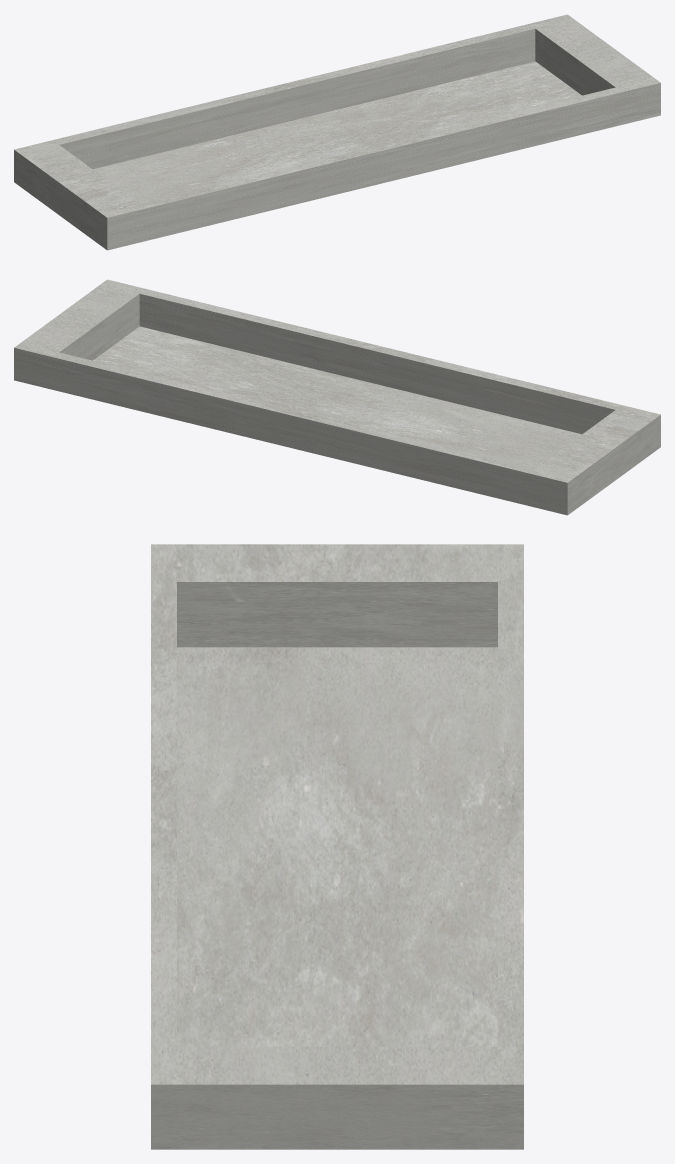
File: main_box.glb
The picture shows the model from 3 angles, top to bottom: view 1: azimuth 30°, elevation 25°; view 2: azimuth 150°, elevation 25°; view 3: azimuth 270°, elevation 25°; orthographic projection. The views are drawn at different scales.
Parts seen in each view (by area): view 1: Plane.002; view 2: Plane.002; view 3: Plane.002.
Boxes of the visible parts, bbox=[...] form: Plane.002: bbox=[14, 14, 660, 250]; Plane.002: bbox=[14, 279, 660, 515]; Plane.002: bbox=[151, 544, 523, 1149].
Size of the model in its own units: 50.21 by 2.83 by 14.66.
1 material, 1 textured.
